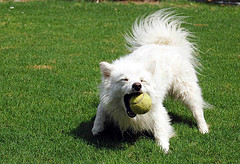tennis ball: (128, 93, 154, 116)
